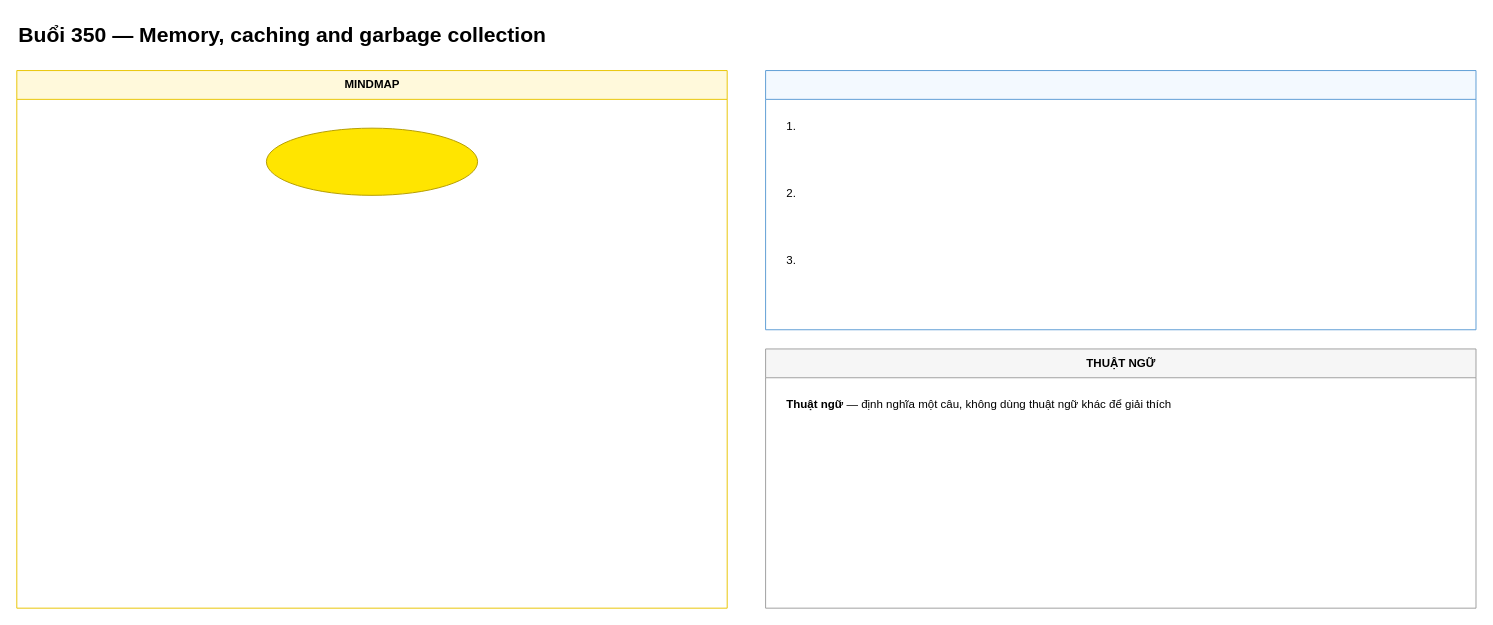
The diagram is 1493 pixels wide and 625 high, and some of its shapes have lost their labels. Here are the shapes that lost their labels. From the top down, the box of each, then its label:
(265, 127, 478, 195): Memory, caching and garbage collection
(765, 70, 1476, 330): KEY TAKEAWAY — ba điều phải nhớ
